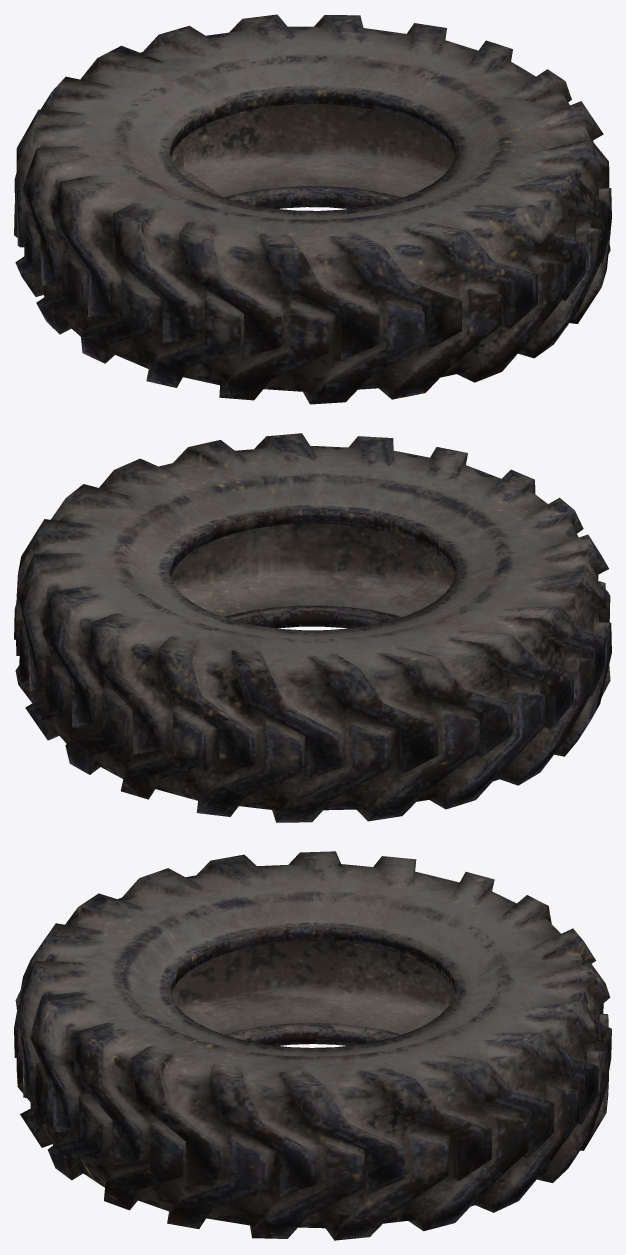
File: wheel_4.fbx
3 views of the same model, one above another, from view 1: azimuth 30°, elevation 25°; view 2: azimuth 150°, elevation 25°; view 3: azimuth 270°, elevation 25° (orthographic).
Parts seen in each view (by area): view 1: wheel_2_LOD0; view 2: wheel_2_LOD0; view 3: wheel_2_LOD0.
Boxes of the visible parts, x1,y1,x2,y2 form: wheel_2_LOD0: [14, 14, 611, 404]; wheel_2_LOD0: [14, 433, 611, 822]; wheel_2_LOD0: [14, 851, 611, 1240].
Size of what is drawn, in the model's own units: 1 by 0.2851 by 1.
